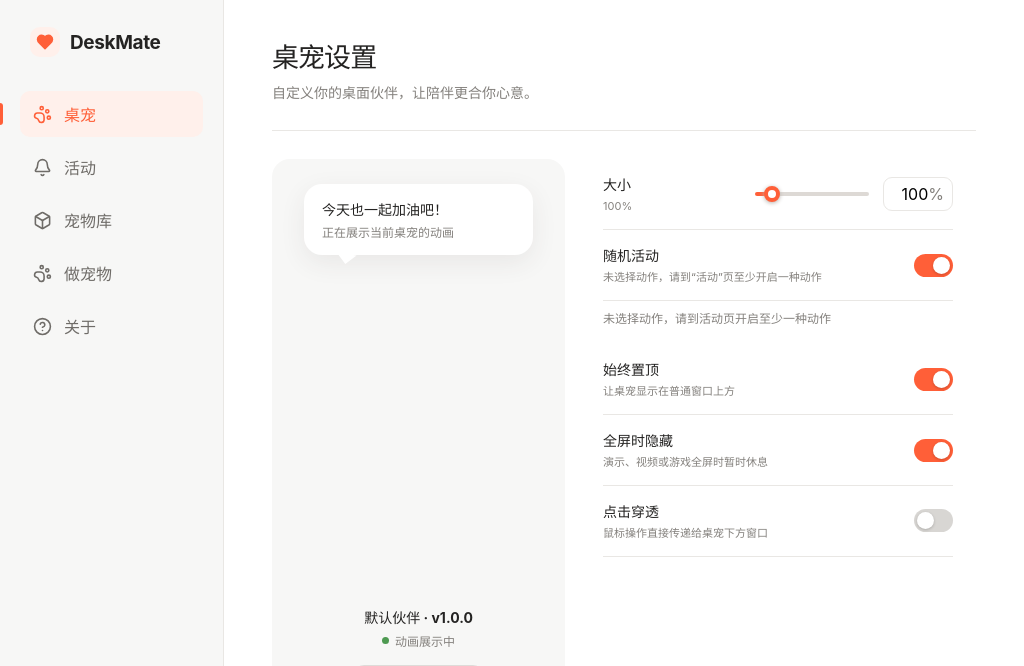
Test case: random activity controls › keeps unsaved interval drafts across navigation and shows the current missing-action state on home
Check: the text named "随机活动运行状态" shows "未选择动作", box 603,311 -> 831,326
Click the button "活动". click: (112, 167)
box: 20,144 -> 203,190
(page scrolled)
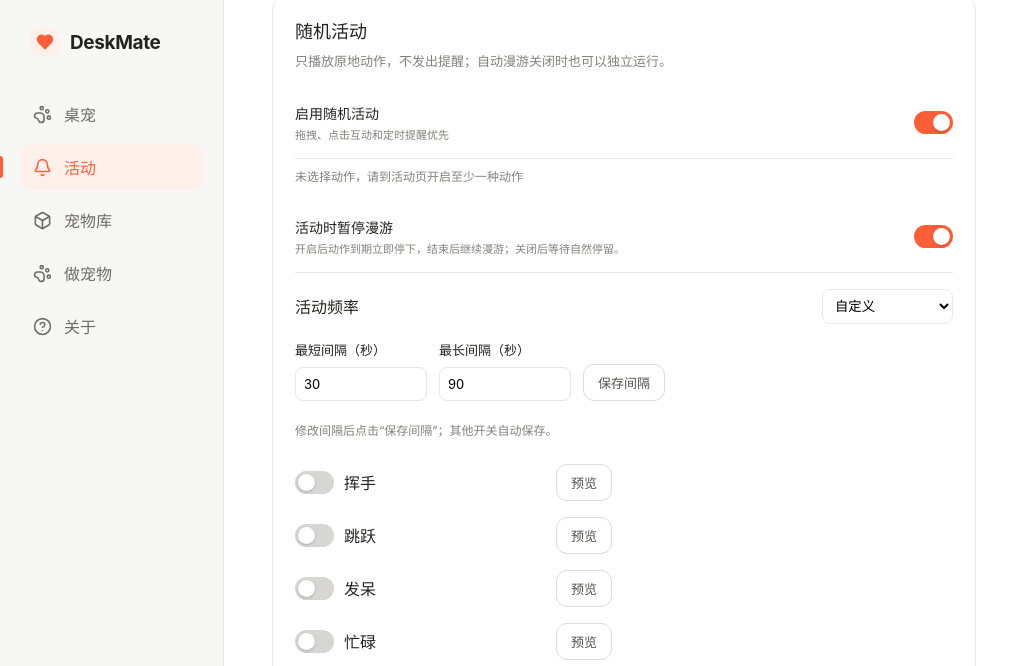
Replace the text in the number field labelled "最短间隔（秒）" with "20". click: (361, 384)
box: 295,367 -> 427,401
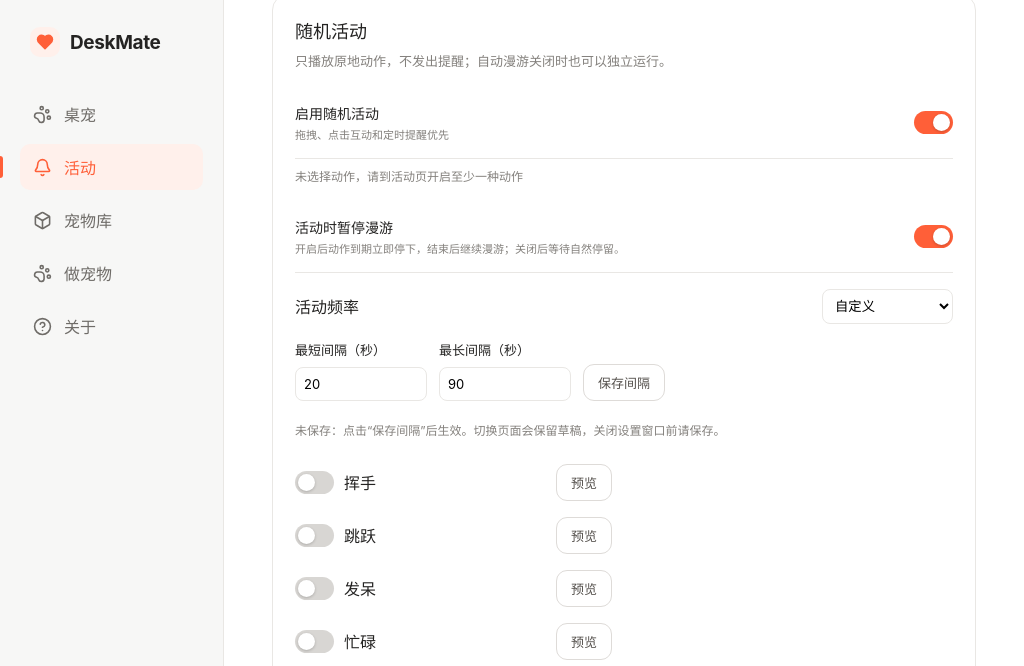
Check: the text "未保存：点击“保存间隔”后生效。切换页面会保留草稿，关闭设置窗口前请保存。" is shown, box 295,423 -> 726,438
Click the button "桌宠". click: (112, 114)
box: 20,91 -> 203,137
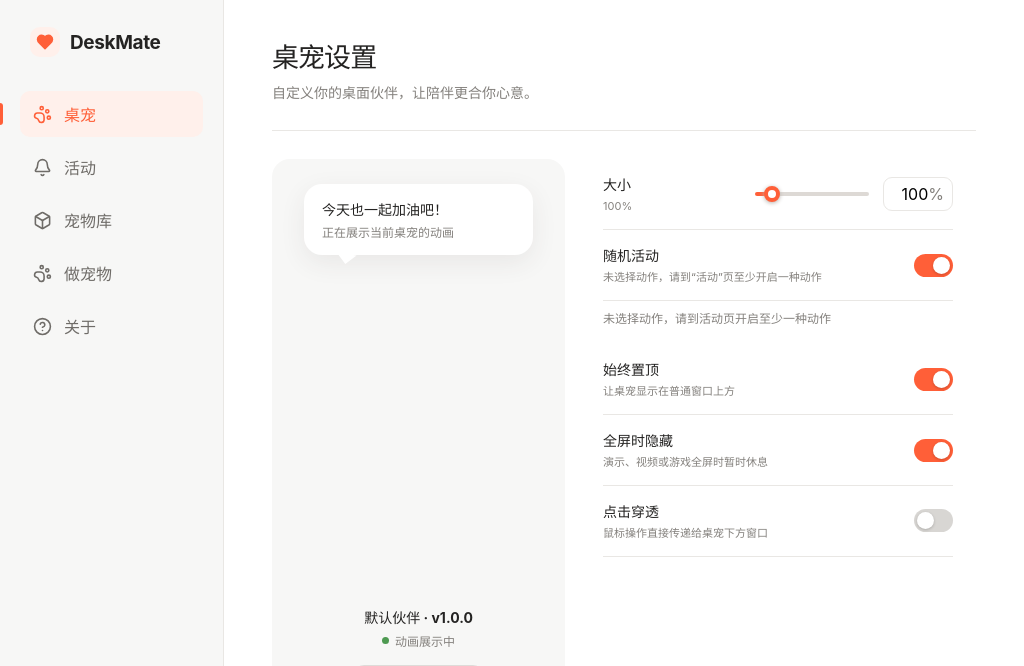
Click the button "活动". click: (112, 167)
box: 20,144 -> 203,190
(page scrolled)
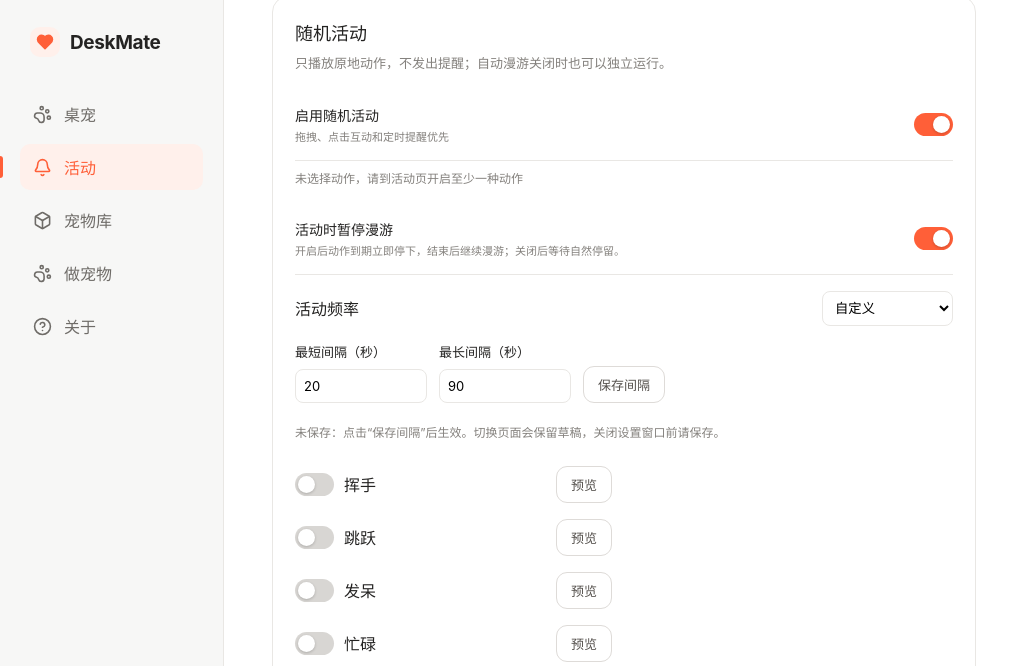
Check: the number field labelled "最短间隔（秒）" holds "20", box 295,369 -> 427,403
Click the button "保存间隔". click: (624, 384)
box: 583,366 -> 665,403
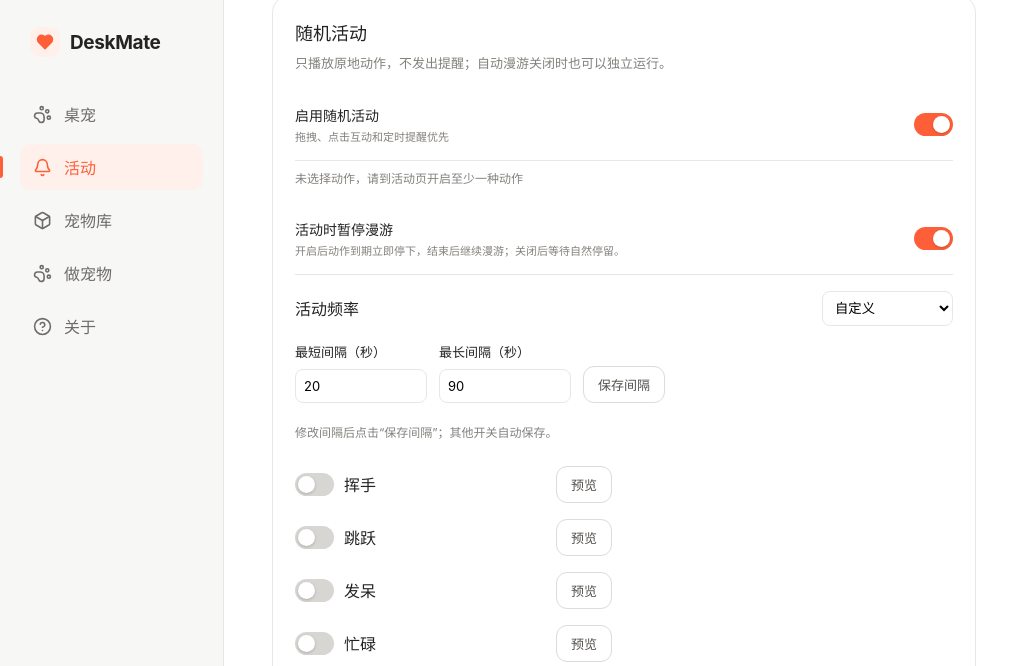
Check: the text "未保存：" is gone
